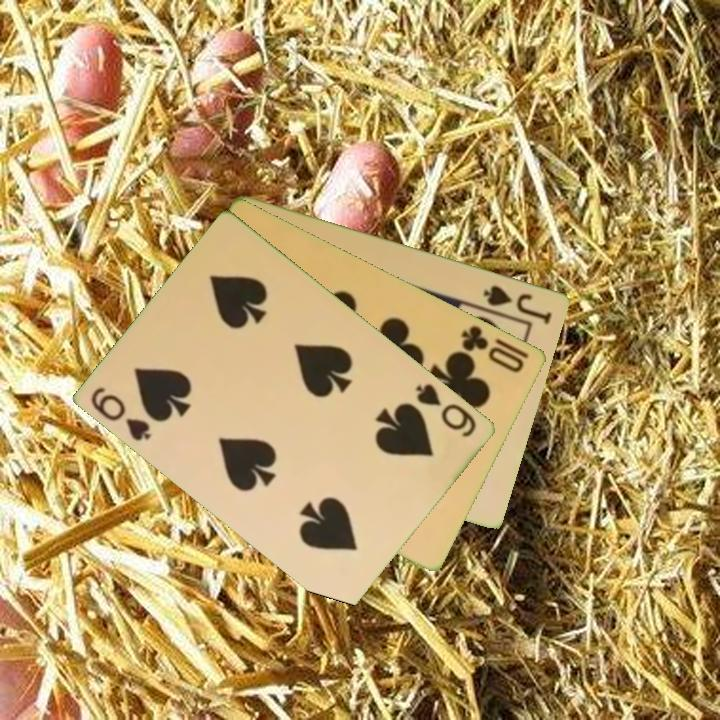10c: (458, 321, 533, 376)
6s: (88, 383, 155, 444), (412, 380, 480, 440)
Js: (480, 281, 555, 327)
